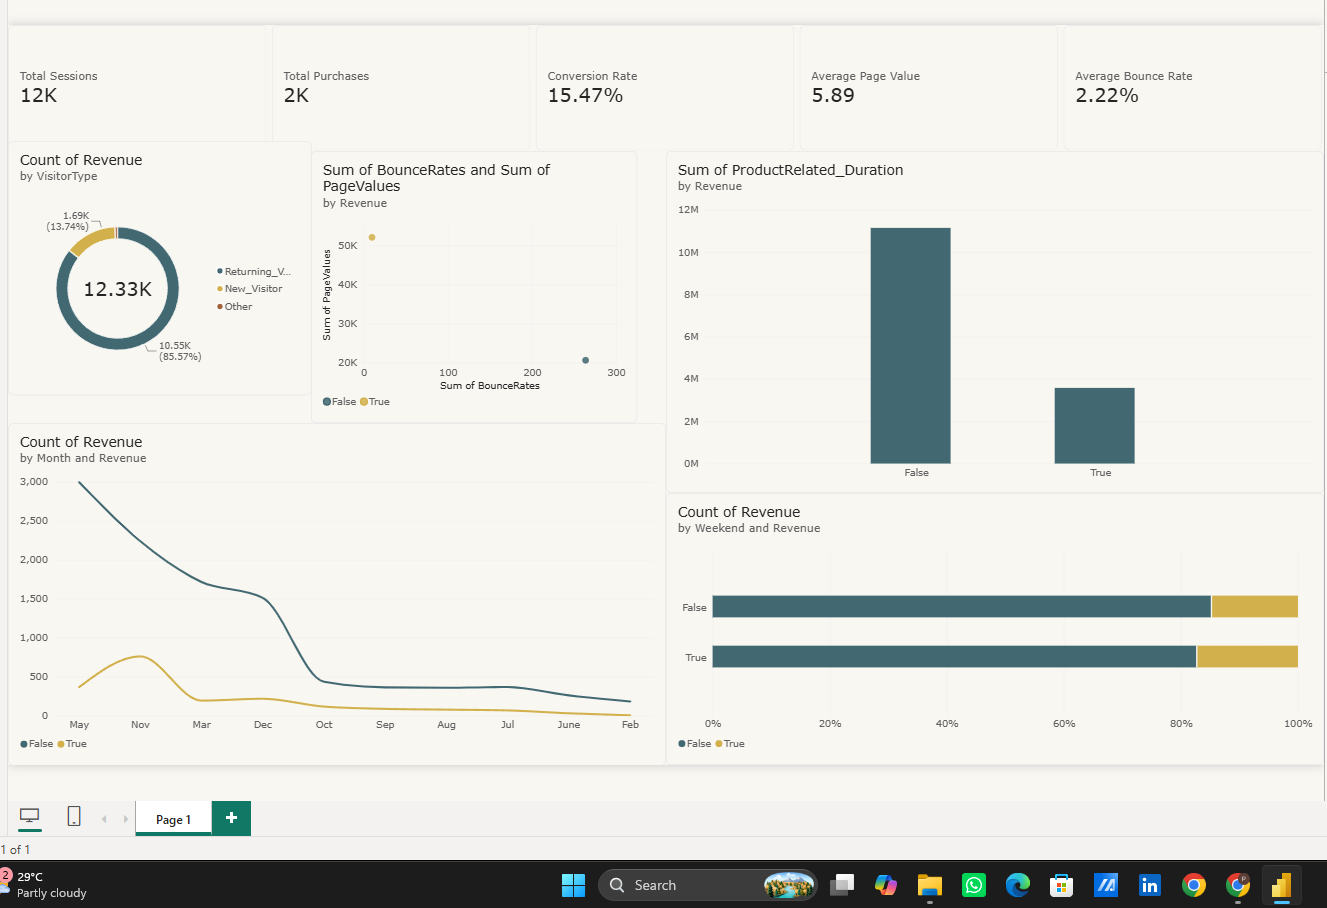

This screenshot's page, from the dashboard's own definition file:
{"tool":"powerbi","page":{"name":"Page 1","canvas":[1920,1080],"ordinal":0},"visuals":[{"type":"cardVisual","fields":{"Data":["online_shoppers_intention.Total Sessions","online_shoppers_intention.Total Purchases","online_shoppers_intention.Conversion Rate","online_shoppers_intention.Average Page Value","online_shoppers_intention.Average Bounce Rate"]},"box":[0,0,1920,183.8],"z":0},{"type":"lineChart","fields":{"Category":["online_shoppers_intention.Month"],"Series":["online_shoppers_intention.Revenue"],"Y":["CountNonNull(online_shoppers_intention.Revenue)"]},"box":[0,580.2,960.4,499.8],"z":1000},{"type":"donutChart","fields":{"Category":["online_shoppers_intention.VisitorType"],"Y":["CountNonNull(online_shoppers_intention.Revenue)"]},"box":[0,169.6,442.7,371.3],"z":2000},{"type":"scatterChart","fields":{"Series":["online_shoppers_intention.Revenue"],"X":["Sum(online_shoppers_intention.BounceRates)"],"Y":["Sum(online_shoppers_intention.PageValues)"]},"box":[442.7,183.9,476,397],"z":4000},{"type":"clusteredColumnChart","fields":{"Category":["online_shoppers_intention.Revenue"],"Y":["Sum(online_shoppers_intention.ProductRelated_Duration)"]},"box":[960,184,960,499],"z":5000},{"type":"hundredPercentStackedBarChart","fields":{"Category":["online_shoppers_intention.Weekend"],"Series":["online_shoppers_intention.Revenue"],"Y":["CountNonNull(online_shoppers_intention.Revenue)"]},"box":[960,683,960,397],"z":6000}]}

Visuals, with their boxes on the page's 1920x1080 design canvas (x1, y1, x2, y2). These are canvas units, not pixel positions in the 1327x908 screenshot, which may show the page scaled, cropped or inside an application window:
cardVisual - online_shoppers_intention.Total Sessions x online_shoppers_intention.Total Purchases: box=[0, 0, 1920, 184]
lineChart - online_shoppers_intention.Month x online_shoppers_intention.Revenue: box=[0, 580, 960, 1080]
donutChart - online_shoppers_intention.VisitorType x CountNonNull(online_shoppers_intention.Revenue): box=[0, 170, 443, 541]
scatterChart - online_shoppers_intention.Revenue x Sum(online_shoppers_intention.BounceRates): box=[443, 184, 919, 581]
clusteredColumnChart - online_shoppers_intention.Revenue x Sum(online_shoppers_intention.ProductRelated_Duration): box=[960, 184, 1920, 683]
hundredPercentStackedBarChart - online_shoppers_intention.Weekend x online_shoppers_intention.Revenue: box=[960, 683, 1920, 1080]
